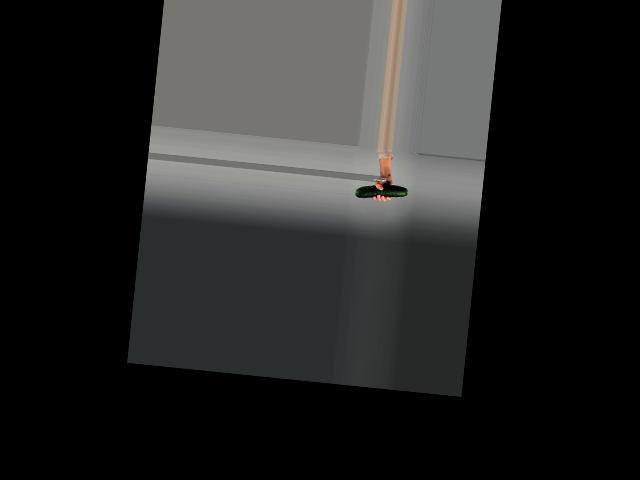cucumber: (354, 181, 406, 202)
